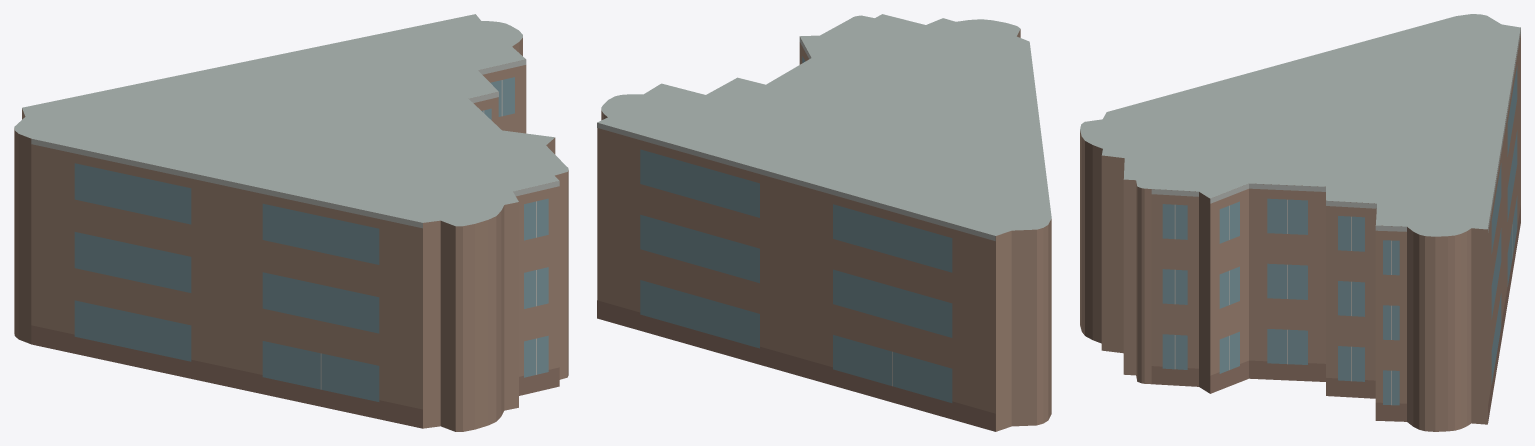
The model's file is survey-upis-32687901.glb.
3 renders of one model, left to right at view 1: azimuth 30°, elevation 25°; view 2: azimuth 150°, elevation 25°; view 3: azimuth 270°, elevation 25°, orthographic. The views are drawn at different scales.
Parts seen in each view (by area): view 1: survey-upis-32687901.tmp; view 2: survey-upis-32687901.tmp; view 3: survey-upis-32687901.tmp.
Part boxes in pixels (<box>): survey-upis-32687901.tmp: <box>14,14,568,431</box>; survey-upis-32687901.tmp: <box>597,14,1051,431</box>; survey-upis-32687901.tmp: <box>1080,14,1520,431</box>.
Bounding box in the file's own units: 22.39 × 9.15 × 18.73.
